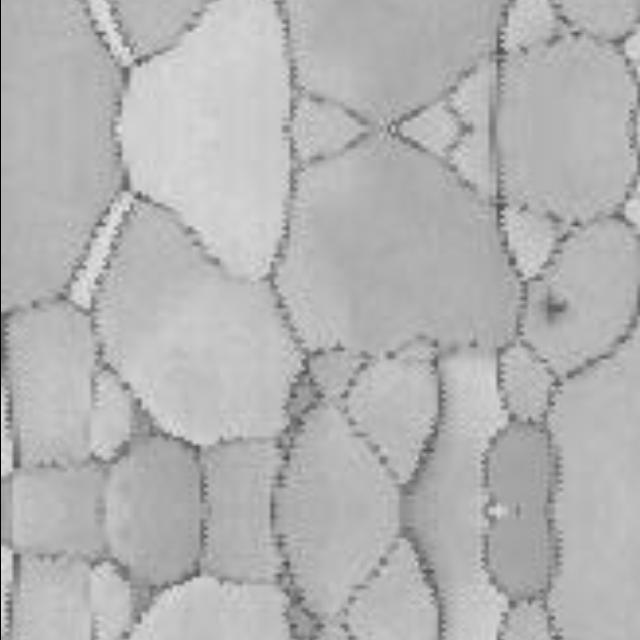good_void: (527, 285, 569, 327)
